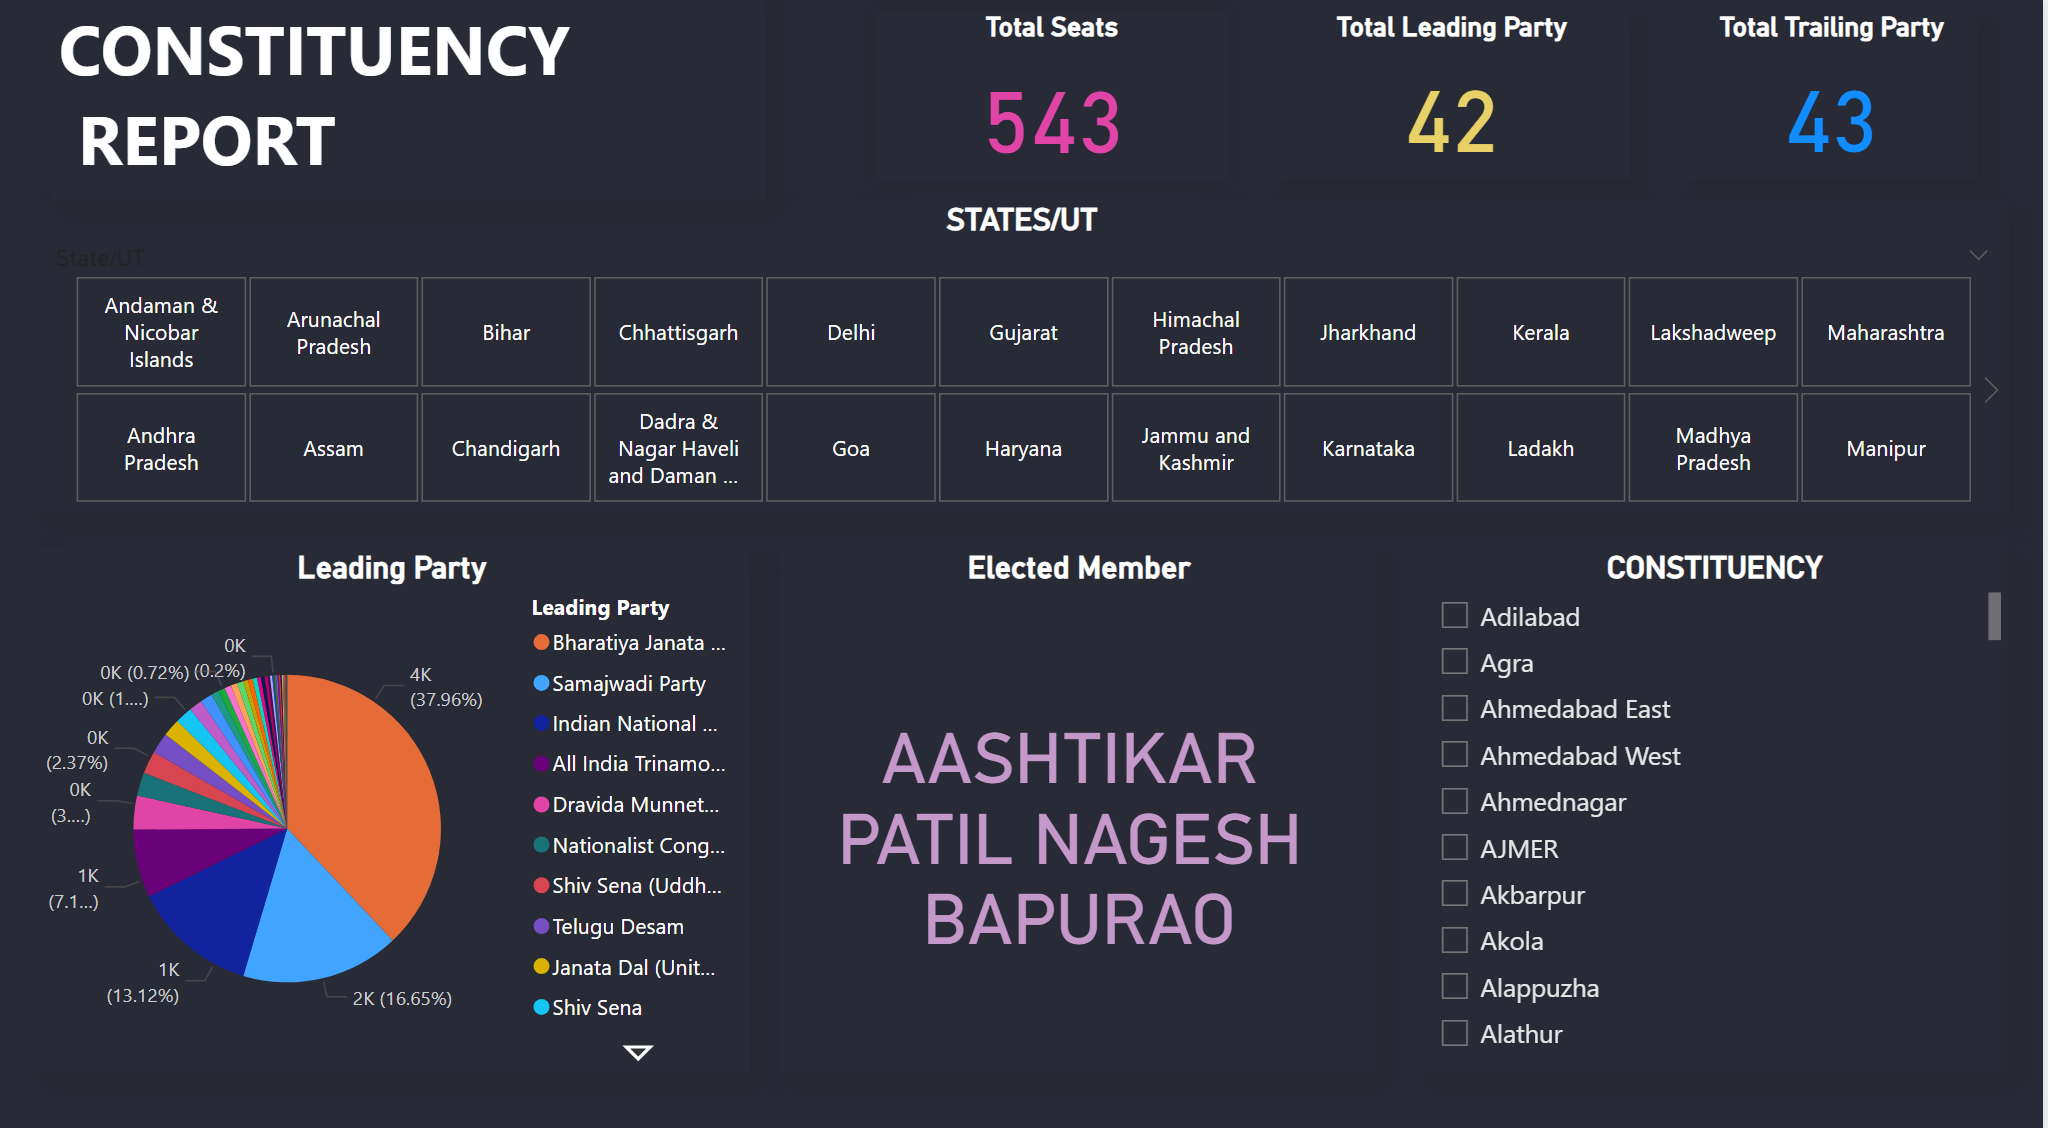

This screenshot's page, from the dashboard's own definition file:
{"tool":"powerbi","page":{"name":"Statewise Report","canvas":[1280,720],"ordinal":1},"visuals":[{"type":"slicer","title":"STATES/UT","fields":{"Values":["Indian General Elections.State/UT"]},"box":[25,131.2,1233.8,195],"z":0},{"type":"pieChart","title":"Leading Party ","fields":{"Category":["Indian General Elections.Leading Party"],"Y":["Indian General Elections.Const. No."]},"box":[25,348.8,446.2,327.5],"z":1000},{"type":"card","title":"Total Seats","fields":{"Values":["Indian General Elections.Constituency"]},"box":[550,12.5,221.2,106.2],"z":2000},{"type":"card","title":"Total Trailing Party","fields":{"Values":["Indian General Elections.Trailing Party"]},"box":[1057.5,12.5,181.2,105],"z":3000},{"type":"card","title":"Total Leading Party","fields":{"Values":["Indian General Elections.Leading Party"]},"box":[800,12.5,221.2,105],"z":4000},{"type":"card","title":"Elected Member","fields":{"Values":["Indian General Elections.Leading Candidate"]},"box":[491.2,348.8,372.5,327.5],"z":5000},{"type":"slicer","title":"CONSTITUENCY","fields":{"Values":["Indian General Elections.Constituency"]},"box":[891.2,348.8,367.5,327.5],"z":6000},{"type":"textbox","box":[35,1.2,446.2,130],"z":7000}]}

Visuals, with their boxes in screenshot pixels (x1, y1, x2, y2), scaled from the page's 1280x720 canvas onto the 2048x1128 screenshot:
"STATES/UT" slicer: 40:206:2014:511
"Leading Party " pieChart: 40:546:754:1060
"Total Seats" card: 880:20:1234:186
"Total Trailing Party" card: 1692:20:1982:184
"Total Leading Party" card: 1280:20:1634:184
"Elected Member" card: 786:546:1382:1060
"CONSTITUENCY" slicer: 1426:546:2014:1060
textbox: 56:2:770:206
